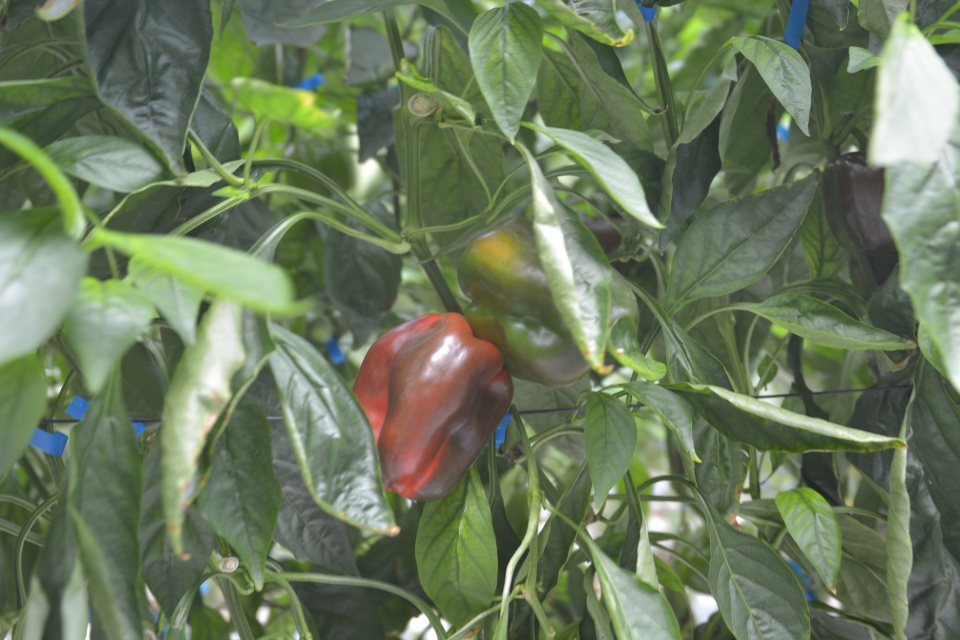fruit: (350, 312, 516, 500), (456, 223, 643, 389), (820, 150, 899, 256)
